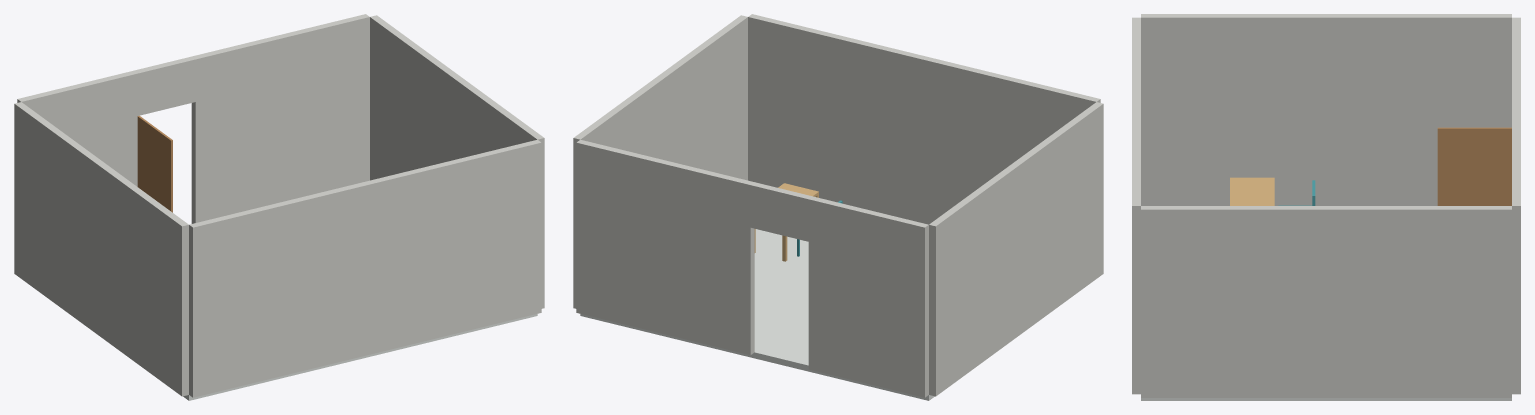
The picture shows the model from 3 angles, left to right: view 1: azimuth 30°, elevation 25°; view 2: azimuth 150°, elevation 25°; view 3: azimuth 270°, elevation 25°; orthographic projection. The views are drawn at different scales.
Parts seen in each view (by area): view 1: room:north:full, room:west:full, room:south:high, room:east:full, room:south:low, room:south:lintel, door:leaf, room:floor; view 2: room:north:full, room:south:high, room:west:full, room:south:low, room:east:full, room:floor, room:south:lintel; view 3: room:east:full, room:west:full, door:leaf, room:north:full, room:south:high, manual-a:table:top, room:floor, room:south:low.
Boxes of the visible parts, x1,y1,x2,y2 form: room:north:full: (189,139,541,397); room:west:full: (14,102,188,396); room:south:high: (191,14,369,223); room:east:full: (370,15,544,308); room:south:low: (17,70,137,186); room:south:lintel: (134,56,195,115); door:leaf: (137,115,172,212); room:floor: (183,314,537,400); room:north:full: (748,14,1100,224); room:south:high: (576,139,754,355); room:west:full: (929,102,1103,396); room:south:low: (808,196,928,397); room:east:full: (573,15,747,308); room:floor: (580,229,934,400); room:south:lintel: (750,182,812,241); room:east:full: (1141,206,1511,397); room:west:full: (1141,14,1511,205); door:leaf: (1437,127,1511,205); room:north:full: (1132,17,1140,394); room:south:high: (1512,112,1520,394); manual-a:table:top: (1230,177,1274,205); room:floor: (1141,398,1511,400); room:south:low: (1512,17,1520,80).
Bounding box in the file's own units: 6.24 × 2.9 × 5.24.
